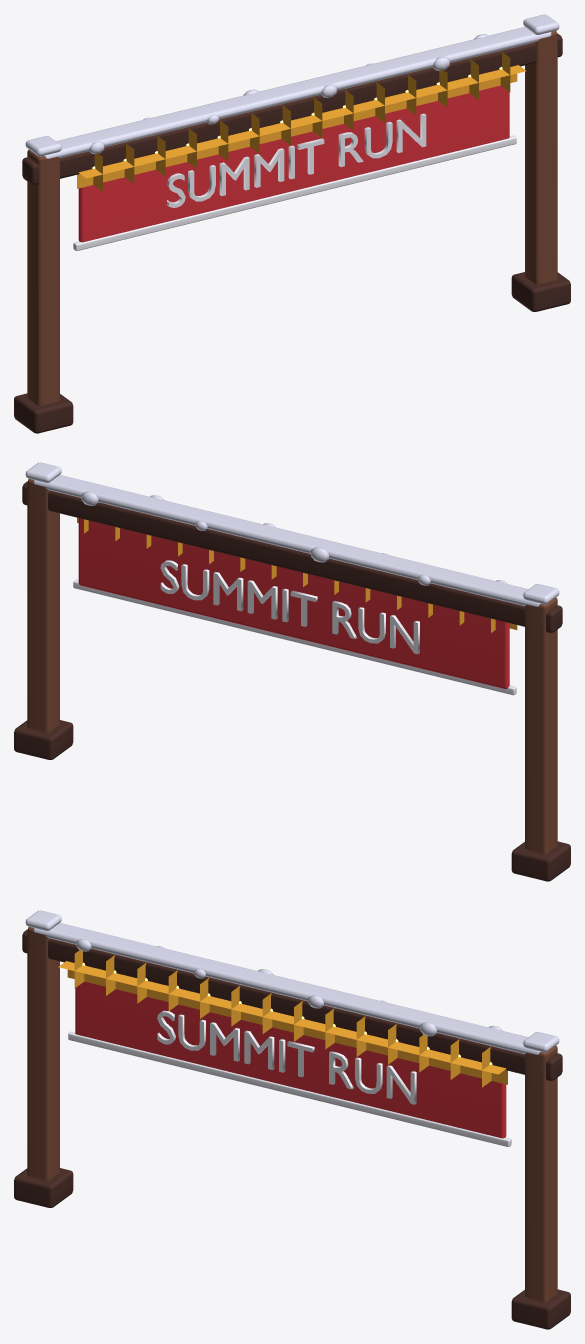
Rendered from frost_run_arch.glb.
3 renders of one model, top to bottom at view 1: azimuth 30°, elevation 25°; view 2: azimuth 150°, elevation 25°; view 3: azimuth 330°, elevation 25°, orthographic.
Parts seen in each view (by area): view 1: RunArch; view 2: RunArch; view 3: RunArch.
Boxes of the visible parts, x1,y1,x2,y2 form: RunArch: (14, 14, 570, 433); RunArch: (14, 462, 570, 881); RunArch: (14, 910, 570, 1329).
Bounding box in the file's own units: 9.5 × 4.74 × 0.784.
